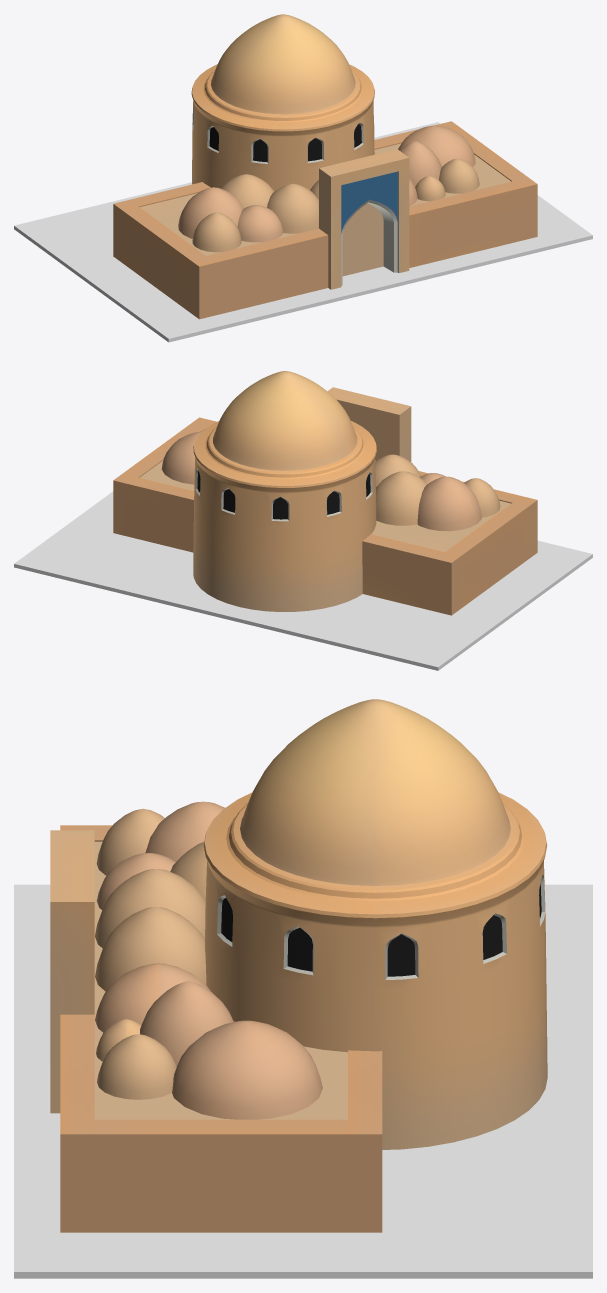
File: Shaybani Trade Domes.glb
3 renders of one model, top to bottom at view 1: azimuth 30°, elevation 25°; view 2: azimuth 150°, elevation 25°; view 3: azimuth 270°, elevation 25°, orthographic. The views are drawn at different scales.
Visible parts, largest first — view 1: polySurface94769, pCub1e1wewew5, polySurface94796, polySurface94768, polySurface94792, polySurface94793, polySurface94795, pCylinder45, pCylinder48, pCylinder52, pCylinder49, polySurface94800 (+7 smaller); view 2: polySurface94769, pCub1e1wewew5, polySurface94800, polySurface94799, polySurface94793, pCylinder48, polySurface94795, pCylinder46, polySurface94797, polySurface94796, pCylinder52, polySurface94768 (+3 smaller); view 3: polySurface94769, pCub1e1wewew5, polySurface94798, pCylinder52, polySurface94796, polySurface94792, polySurface94799, polySurface94795, pCylinder55, pCylinder45, pCylinder51, pCylinder53 (+6 smaller).
Part boxes in pixels (left/top/right/bottom): polySurface94769: left=191, top=14, right=374, bottom=191; pCub1e1wewew5: left=14, top=122, right=592, bottom=342; polySurface94796: left=319, top=149, right=409, bottom=289; polySurface94768: left=190, top=228, right=328, bottom=319; polySurface94792: left=409, top=177, right=537, bottom=267; polySurface94793: left=122, top=206, right=205, bottom=312; polySurface94795: left=140, top=143, right=510, bottom=255; pCylinder45: left=267, top=183, right=318, bottom=233; pCylinder48: left=178, top=187, right=243, bottom=238; pCylinder52: left=398, top=125, right=475, bottom=166; pCylinder49: left=192, top=212, right=241, bottom=252; polySurface94800: left=113, top=182, right=210, bottom=262; polySurface94769: left=193, top=371, right=376, bottom=611; pCub1e1wewew5: left=14, top=491, right=592, bottom=670; polySurface94800: left=362, top=534, right=460, bottom=615; polySurface94799: left=113, top=473, right=194, bottom=552; polySurface94793: left=445, top=503, right=528, bottom=608; pCylinder48: left=417, top=476, right=481, bottom=531; polySurface94795: left=139, top=460, right=510, bottom=552; pCylinder46: left=376, top=471, right=427, bottom=525; polySurface94797: left=337, top=399, right=399, bottom=460; polySurface94796: left=327, top=387, right=411, bottom=461; pCylinder52: left=161, top=431, right=201, bottom=484; polySurface94768: left=418, top=471, right=537, bottom=558; polySurface94769: left=203, top=699, right=547, bottom=1149; pCub1e1wewew5: left=14, top=884, right=592, bottom=1278; polySurface94798: left=94, top=1119, right=347, bottom=1232; pCylinder52: left=172, top=1020, right=322, bottom=1119; polySurface94796: left=50, top=830, right=94, bottom=1113; polySurface94792: left=60, top=1014, right=94, bottom=1232; polySurface94799: left=348, top=1050, right=382, bottom=1232; polySurface94795: left=94, top=842, right=347, bottom=1119; pCylinder55: left=95, top=907, right=206, bottom=991; pCylinder45: left=95, top=869, right=205, bottom=948; pCylinder51: left=140, top=981, right=233, bottom=1066; pCylinder53: left=97, top=1034, right=176, bottom=1099.
Bounding box in the file's own units: 1.23 × 0.5656 × 0.7758.
2 materials, 1 textured.
